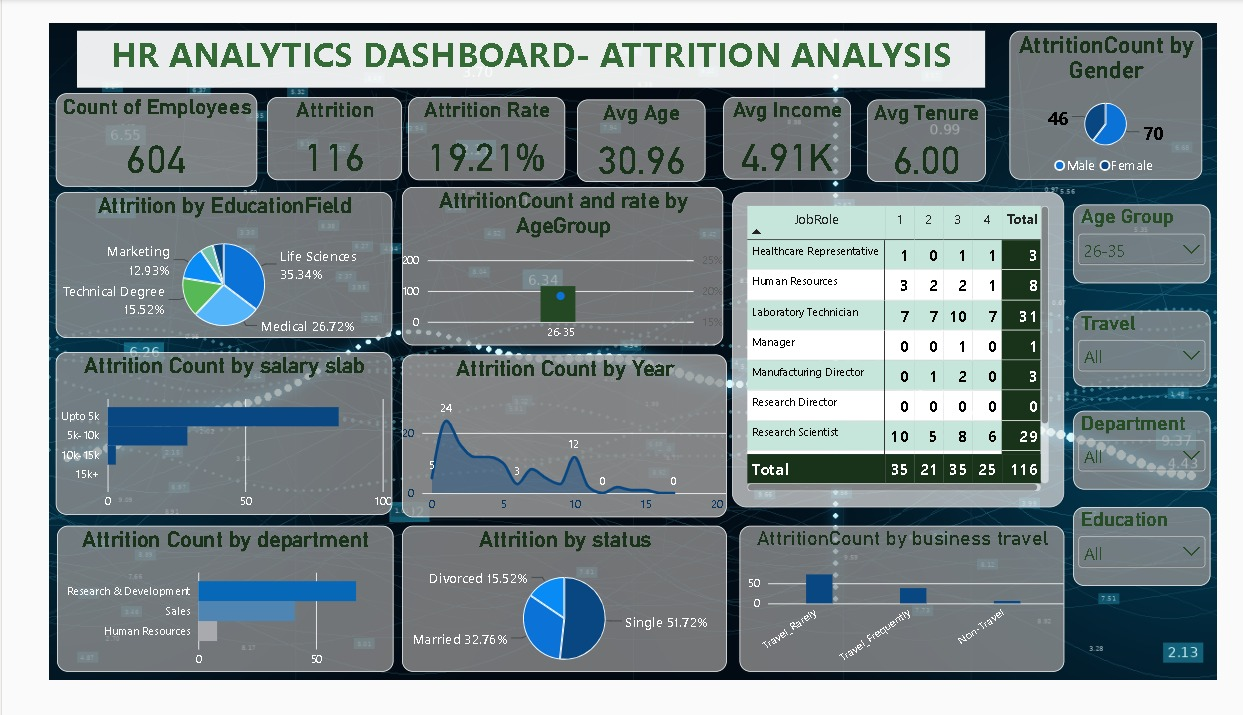

The dashboard page shown, as its layout file describes it:
{"tool":"powerbi","page":{"name":"Page 1","canvas":[1920,1080],"ordinal":0},"visuals":[{"type":"textbox","box":[350.7,184.9,995.5,62.7],"z":1},{"type":"cardVisual","title":"Count of Employees","fields":{"Data":["CountNonNull(HR_Analytics csv.EmpID)"]},"box":[327.4,253.4,220.5,102.7],"z":2},{"type":"cardVisual","title":"Attrition","fields":{"Data":["Sum(HR_Analytics csv.AttritionCount)"]},"box":[558.9,257.5,147.8,91],"z":3},{"type":"cardVisual","title":"Attrition Rate","fields":{"Data":["HR_Analytics csv.AttritionRate"]},"box":[713.7,257.5,171.6,91],"z":4},{"type":"cardVisual","title":"Avg Age","fields":{"Data":["Avg(HR_Analytics csv.Age)"]},"box":[898.6,260.3,141.1,90.4],"z":5},{"type":"cardVisual","title":"Avg  Income ","fields":{"Data":["Avg(HR_Analytics csv.MonthlyIncome)"]},"box":[1058.9,257.5,139.7,90.4],"z":6},{"type":"cardVisual","title":"Avg Tenure ","fields":{"Data":["Avg(HR_Analytics csv.YearsAtCompany)"]},"box":[1216.4,260.3,130.1,90.4],"z":7},{"type":"donutChart","title":"AttritionCount by Gender","fields":{"Category":["HR_Analytics csv.Gender"],"Y":["Sum(HR_Analytics csv.AttritionCount)"]},"box":[1372.6,184.9,211,163],"z":8},{"type":"pieChart","title":" Attrition by EducationField","fields":{"Category":["HR_Analytics csv.EducationField","HR_Analytics csv.YearsAtCompany"],"Y":["Sum(HR_Analytics csv.AttritionCount)"]},"box":[327.4,361.6,368.5,160.3],"z":9},{"type":"lineStackedColumnComboChart","title":" AttritionCount and rate  by AgeGroup","fields":{"Category":["HR_Analytics csv.AgeGroup"],"Y":["Sum(HR_Analytics csv.AttritionCount)"],"Y2":["HR_Analytics csv.AttritionRate"]},"box":[706.8,356.2,352.1,174],"z":10},{"type":"pivotTable","fields":{"Columns":["HR_Analytics csv.JobSatisfaction"],"Rows":["HR_Analytics csv.JobRole"],"Values":["Sum(HR_Analytics csv.AttritionCount)"]},"box":[1068.5,361.6,364.4,345.2],"z":11},{"type":"barChart","title":" Attrition Count  by salary slab  ","fields":{"Category":["HR_Analytics csv.SalarySlab"],"Y":["Sum(HR_Analytics csv.AttritionCount)"]},"box":[327.4,537,368.5,178.1],"z":12},{"type":"areaChart","title":"Attrition Count by Year","fields":{"Category":["HR_Analytics csv.YearsAtCompany"],"Y":["Sum(HR_Analytics csv.AttritionCount)"]},"box":[706.8,539.7,356.2,178.1],"z":13},{"type":"barChart","title":" Attrition Count by department ","fields":{"Category":["HR_Analytics csv.Department"],"Y":["Sum(HR_Analytics csv.AttritionCount)"]},"box":[328.8,727.4,368.5,160.3],"z":14},{"type":"pieChart","title":" Attrition by status ","fields":{"Category":["HR_Analytics csv.MaritalStatus"],"Y":["Sum(HR_Analytics csv.AttritionCount)"]},"box":[706.8,727.4,356.2,160.3],"z":15},{"type":"columnChart","title":" AttritionCount by business travel ","fields":{"Category":["HR_Analytics csv.BusinessTravel"],"Y":["Sum(HR_Analytics csv.AttritionCount)"]},"box":[1076.7,727.4,356.2,160.3],"z":16},{"type":"slicer","fields":{"Values":["HR_Analytics csv.AgeGroup"]},"box":[1442.5,375.3,150.7,86.3],"z":17},{"type":"slicer","fields":{"Values":["HR_Analytics csv.BusinessTravel"]},"box":[1442.5,491.8,150.7,83.6],"z":18},{"type":"slicer","fields":{"Values":["HR_Analytics csv.Department"]},"box":[1442.5,601.4,150.7,86.3],"z":19},{"type":"slicer","fields":{"Values":["HR_Analytics csv.EducationField"]},"box":[1442.5,706.8,150.7,86.3],"z":20}]}

Visuals, with their boxes in screenshot pixels (x1, y1, x2, y2), scaled from the page's 1920x1080 canvas onto the 1243x715 screenshot:
textbox: [left=227, top=122, right=872, bottom=164]
"Count of Employees" cardVisual: [left=212, top=168, right=355, bottom=236]
"Attrition" cardVisual: [left=362, top=170, right=458, bottom=231]
"Attrition Rate" cardVisual: [left=462, top=170, right=573, bottom=231]
"Avg Age" cardVisual: [left=582, top=172, right=673, bottom=232]
"Avg  Income " cardVisual: [left=686, top=170, right=776, bottom=230]
"Avg Tenure " cardVisual: [left=787, top=172, right=872, bottom=232]
"AttritionCount by Gender" donutChart: [left=889, top=122, right=1025, bottom=230]
" Attrition by EducationField" pieChart: [left=212, top=239, right=451, bottom=346]
" AttritionCount and rate  by AgeGroup" lineStackedColumnComboChart: [left=458, top=236, right=686, bottom=351]
pivotTable - HR_Analytics csv.JobSatisfaction x HR_Analytics csv.JobRole: [left=692, top=239, right=928, bottom=468]
" Attrition Count  by salary slab  " barChart: [left=212, top=356, right=451, bottom=473]
"Attrition Count by Year" areaChart: [left=458, top=357, right=688, bottom=475]
" Attrition Count by department " barChart: [left=213, top=482, right=451, bottom=588]
" Attrition by status " pieChart: [left=458, top=482, right=688, bottom=588]
" AttritionCount by business travel " columnChart: [left=697, top=482, right=928, bottom=588]
slicer - HR_Analytics csv.AgeGroup: [left=934, top=248, right=1031, bottom=306]
slicer - HR_Analytics csv.BusinessTravel: [left=934, top=326, right=1031, bottom=381]
slicer - HR_Analytics csv.Department: [left=934, top=398, right=1031, bottom=455]
slicer - HR_Analytics csv.EducationField: [left=934, top=468, right=1031, bottom=525]
